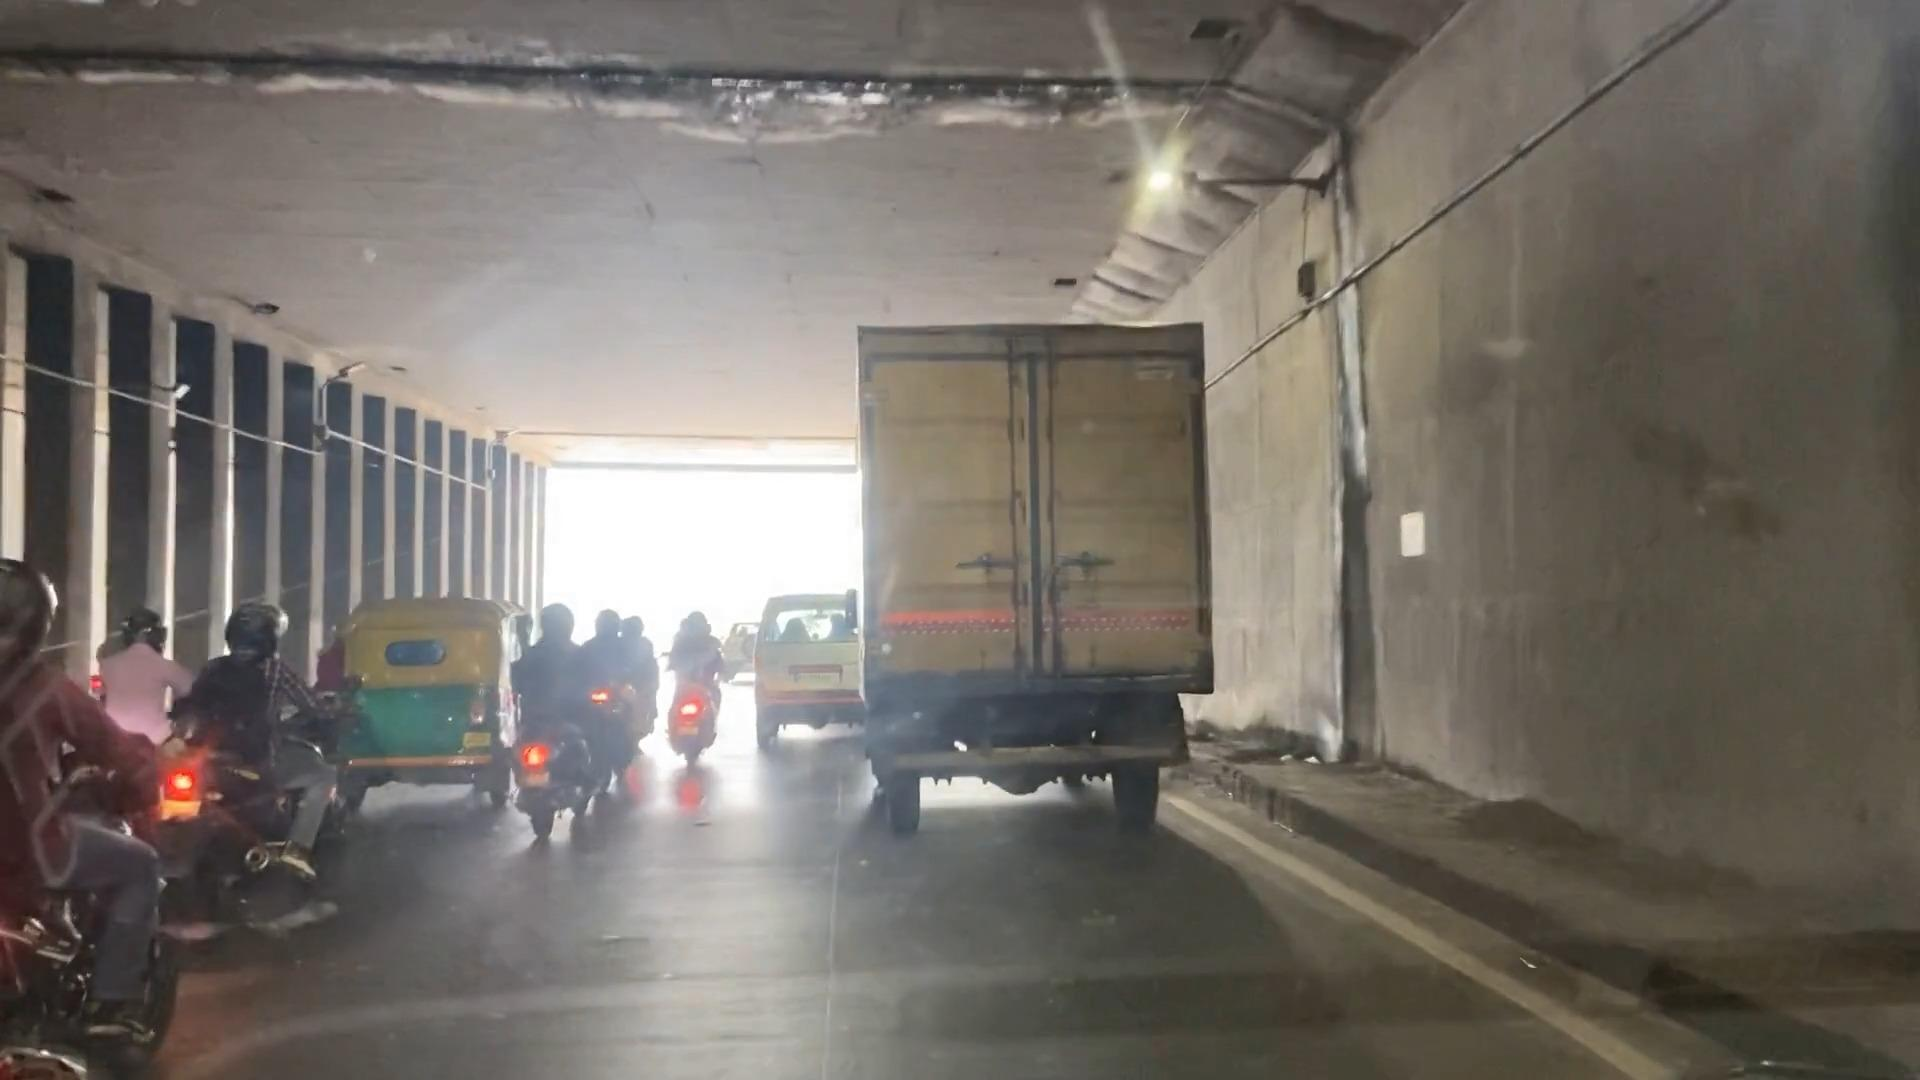HMV: (857, 316, 1203, 820)
LMV: (510, 596, 618, 832), (653, 589, 746, 766)
